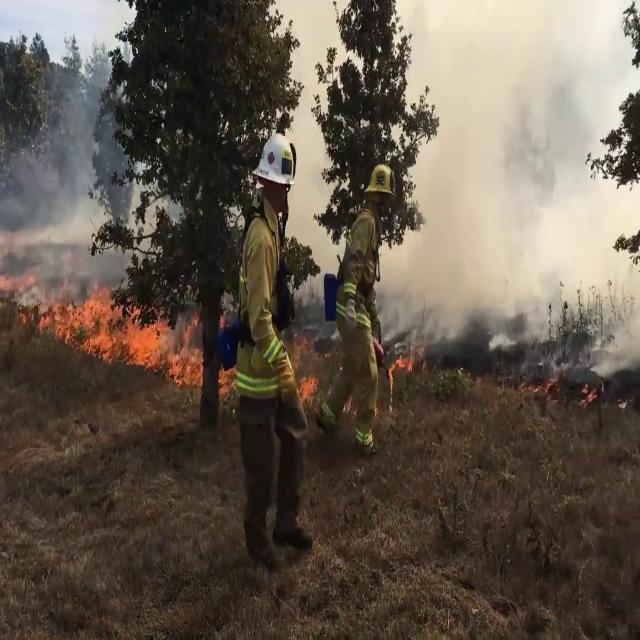Fire: (42, 286, 208, 376)
Smoke: (384, 0, 638, 358), (0, 56, 126, 292)
